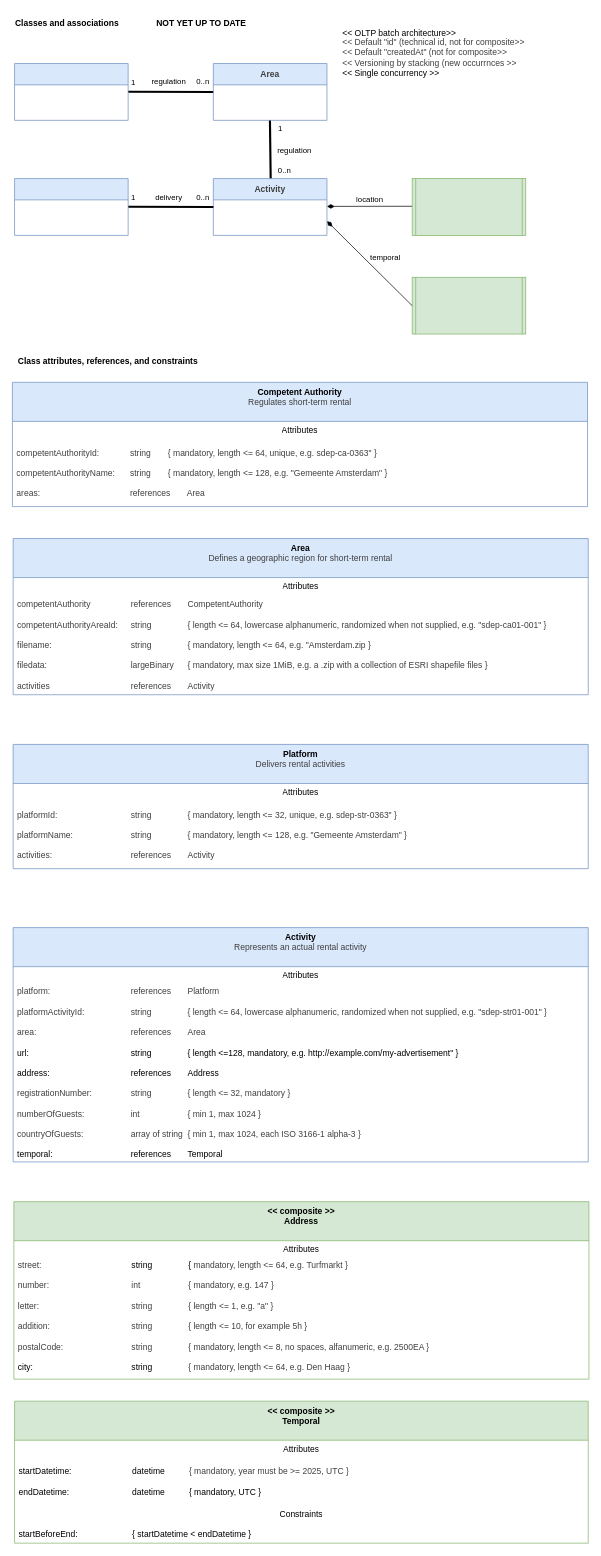
This 601x1556 diagram has some shape labels left out. The shapes that lost their labels are listed below. From the top down, each one's centre as x and y in pixels, then its label:
[71,91]: CompetentAuthority
[71,206]: Platform
[468,206]: <<composite>> Address
[468,305]: <<composite>> Temporal
